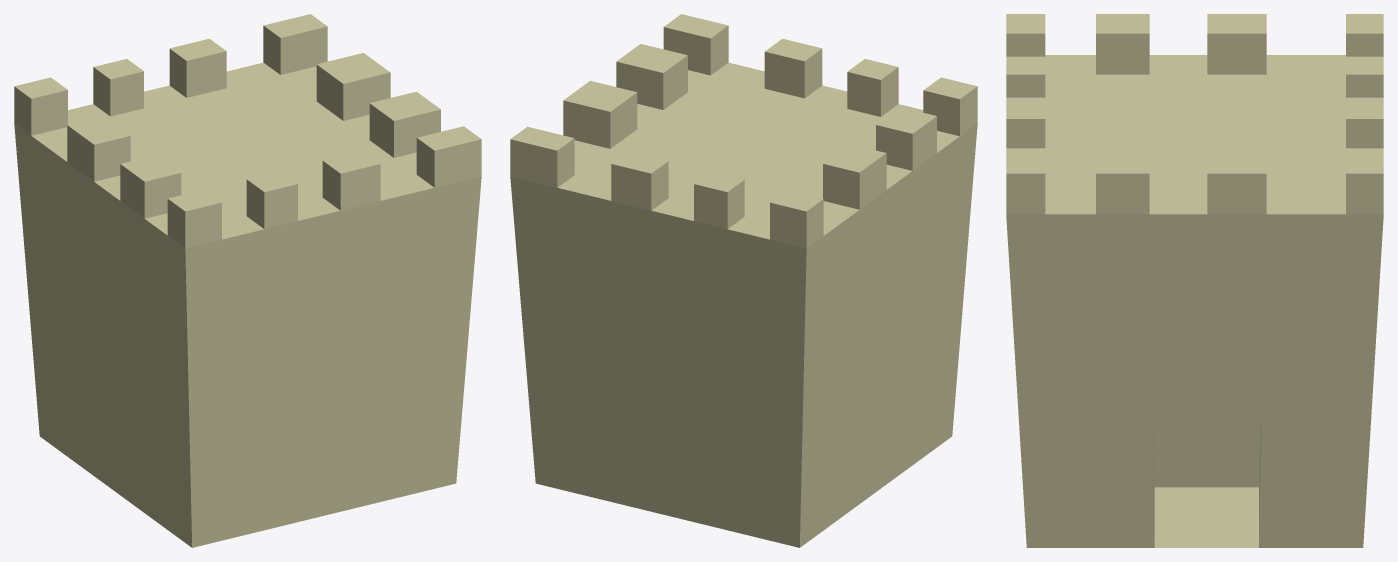
File: House3.fbx
3 renders of one model, left to right at view 1: azimuth 30°, elevation 25°; view 2: azimuth 150°, elevation 25°; view 3: azimuth 270°, elevation 25°, orthographic. The views are drawn at different scales.
Parts seen in each view (by area): view 1: Cube; view 2: Cube; view 3: Cube.
Part boxes in pixels (x1,y1,x2,y2): Cube: (14, 14, 481, 547); Cube: (510, 14, 977, 547); Cube: (1006, 14, 1383, 547).
Bounding box in the file's own units: 1634 × 1830 × 1634.
